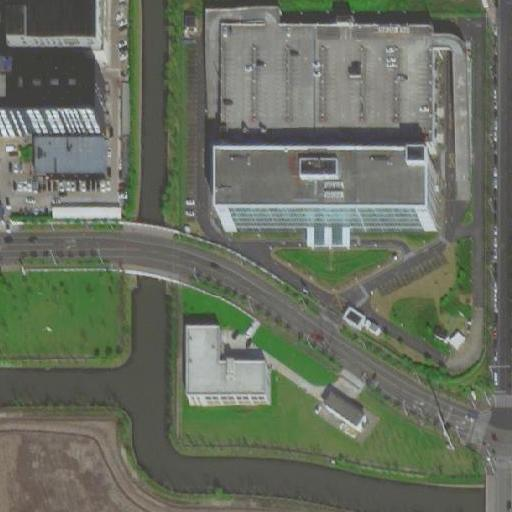building: (204, 10, 437, 150), (226, 175, 438, 236), (187, 327, 270, 406), (0, 84, 103, 137), (437, 45, 474, 184), (321, 388, 365, 426), (43, 196, 114, 215)
